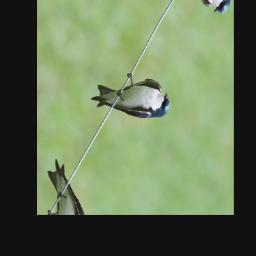Swallow: (88, 46, 175, 153)
